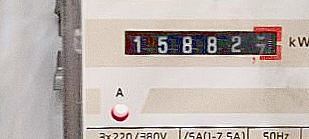1: (130, 33, 143, 52)
2: (229, 33, 242, 53)
5: (155, 33, 168, 54)
7: (254, 41, 265, 55)
8: (180, 33, 193, 54), (205, 34, 218, 55)
screen: (115, 17, 291, 67)
